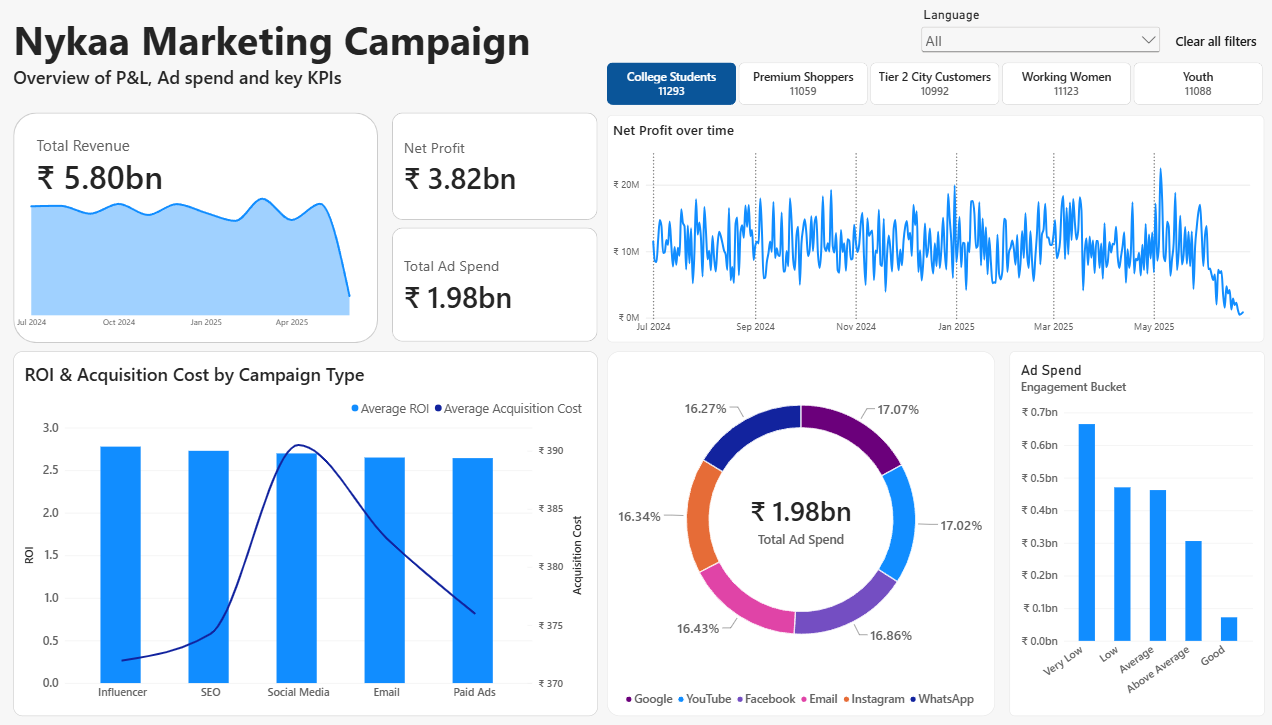

The page's visual inventory and layout, read from the dashboard file:
{"tool":"powerbi","page":{"name":"Executive Overview","canvas":[1920,1080],"ordinal":0},"visuals":[{"type":"group","id":"g1","title":"Group 1","box":[20.7,166.8,553.4,343.3],"z":0},{"type":"shape","box":[31.1,166.8,543,343.3],"z":0,"group":"g1"},{"type":"cardVisual","fields":{"Data":["Sum(nykaa_campaign_data.Profit)"]},"box":[595.4,166.8,306.4,161],"z":1000},{"type":"cardVisual","fields":{"Data":["Sum(nykaa_campaign_data.Revenue)"]},"box":[50.7,167.6,314.8,161.1],"z":1000,"group":"g1"},{"type":"areaChart","fields":{"Category":["nykaa_campaign_data.Month-Year.Variation.Date Hierarchy.Year","nykaa_campaign_data.Month-Year.Variation.Date Hierarchy.Month"],"Y":["Sum(nykaa_campaign_data.Revenue)"]},"box":[20.7,254.5,552.7,254.1],"z":2000,"group":"g1"},{"type":"cardVisual","fields":{"Data":["Sum(nykaa_campaign_data.Ad Spend)"]},"box":[595.4,339.4,306.4,170.7],"z":2000},{"type":"lineStackedColumnComboChart","title":"ROI & Acquisition Cost by Campaign Type","fields":{"Category":["nykaa_campaign_data.Campaign_Type"],"Y":["Avg(nykaa_campaign_data.ROI)"],"Y2":["Avg(nykaa_campaign_data.Acquisition_Cost)"]},"box":[31,523.6,870.8,543],"z":3000},{"type":"donutChart","fields":{"Category":["nykaa_campaign_data.Channel_Used - Copy.1"],"Y":["Sum(nykaa_campaign_data.Ad Spend)"]},"box":[915.4,523.6,577.9,543],"z":4000},{"type":"lineChart","title":"Net Profit over time","fields":{"Category":["nykaa_campaign_data.Date.Variation.Date Hierarchy.Year"],"Y":["Sum(nykaa_campaign_data.Profit)"]},"box":[915.5,171.2,978.8,338.7],"z":5000},{"type":"clusteredColumnChart","title":"Ad Spend","fields":{"Category":["nykaa_campaign_data.Engagement Bucket"],"Y":["Sum(nykaa_campaign_data.Ad Spend)"]},"box":[1514.7,522.9,379.6,543.4],"z":6000},{"type":"advancedSlicerVisual","fields":{"Values":["nykaa_campaign_data.Customer_Segment"]},"box":[915.5,93,978.8,63.3],"z":7000},{"type":"actionButton","box":[1684.1,33.5,210.3,55.8],"z":8000},{"type":"textbox","box":[31.6,18.6,800.2,134],"z":9000},{"type":"slicer","fields":{"Values":["nykaa_campaign_data.Language"]},"box":[1378.9,11.2,364.7,74.4],"z":10000}]}

Visuals, with their boxes in screenshot pixels (x1, y1, x2, y2), scaled from the page's 1920x1080 canvas onto the 1272x725 screenshot:
"Group 1" group: detection(14, 112, 380, 342)
shape: detection(21, 112, 380, 342)
cardVisual - Sum(nykaa_campaign_data.Profit): detection(394, 112, 597, 220)
cardVisual - Sum(nykaa_campaign_data.Revenue): detection(34, 113, 242, 221)
areaChart - nykaa_campaign_data.Month-Year.Variation.Date Hierarchy.Year x nykaa_campaign_data.Month-Year.Variation.Date Hierarchy.Month: detection(14, 171, 380, 341)
cardVisual - Sum(nykaa_campaign_data.Ad Spend): detection(394, 228, 597, 342)
"ROI & Acquisition Cost by Campaign Type" lineStackedColumnComboChart: detection(21, 351, 597, 716)
donutChart - nykaa_campaign_data.Channel_Used - Copy.1 x Sum(nykaa_campaign_data.Ad Spend): detection(606, 351, 989, 716)
"Net Profit over time" lineChart: detection(607, 115, 1255, 342)
"Ad Spend" clusteredColumnChart: detection(1003, 351, 1255, 716)
advancedSlicerVisual - nykaa_campaign_data.Customer_Segment: detection(607, 62, 1255, 105)
actionButton: detection(1116, 22, 1255, 60)
textbox: detection(21, 12, 551, 102)
slicer - nykaa_campaign_data.Language: detection(914, 8, 1155, 57)
